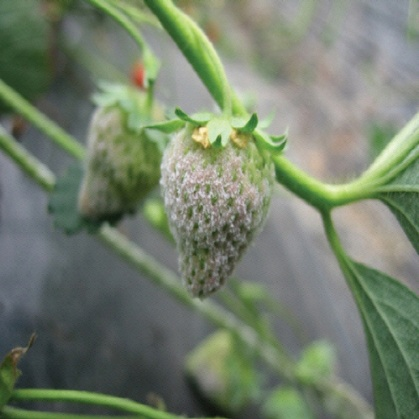Powdery_Fruit: (146, 91, 343, 222), (142, 112, 260, 299)
